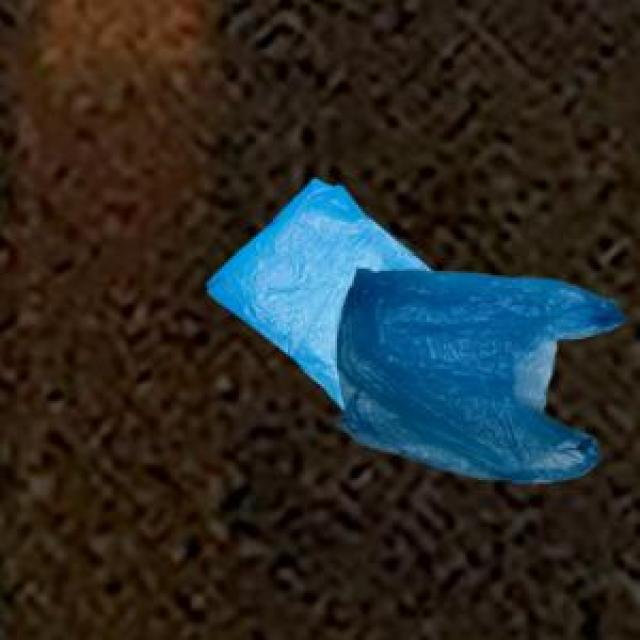plasticcover: (326, 256, 613, 496), (201, 156, 442, 416)
